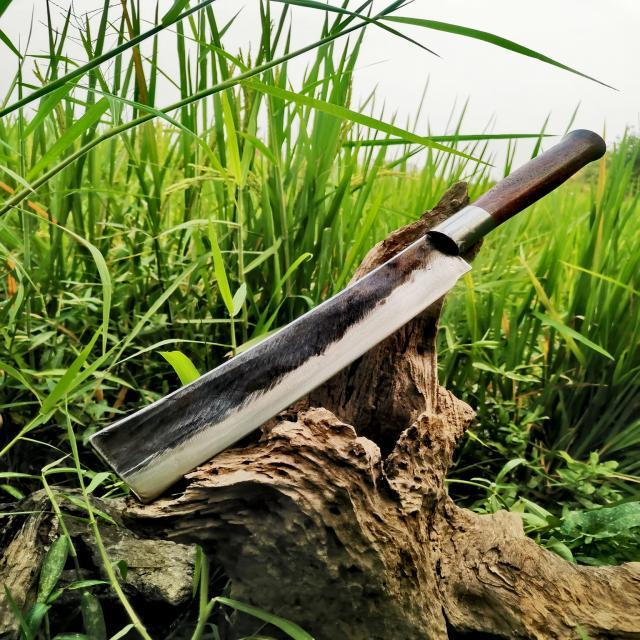eto: (75, 127, 623, 506)
